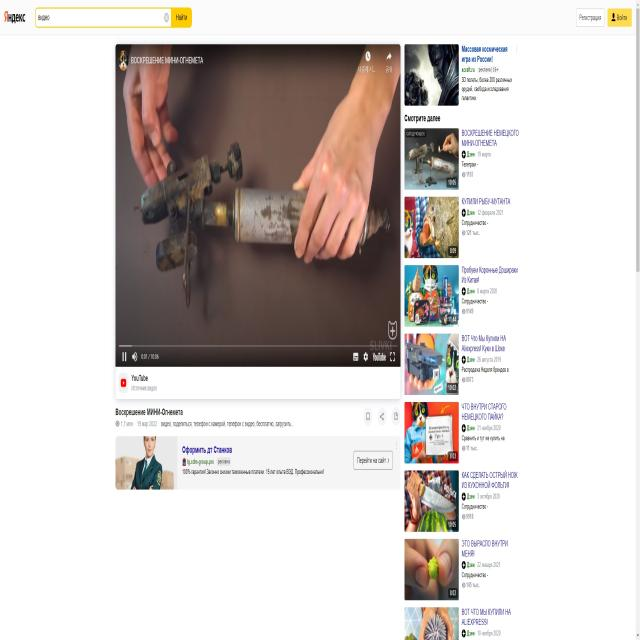content: (112, 402, 400, 436)
control-bar: (111, 328, 399, 367)
search: (35, 2, 193, 31)
